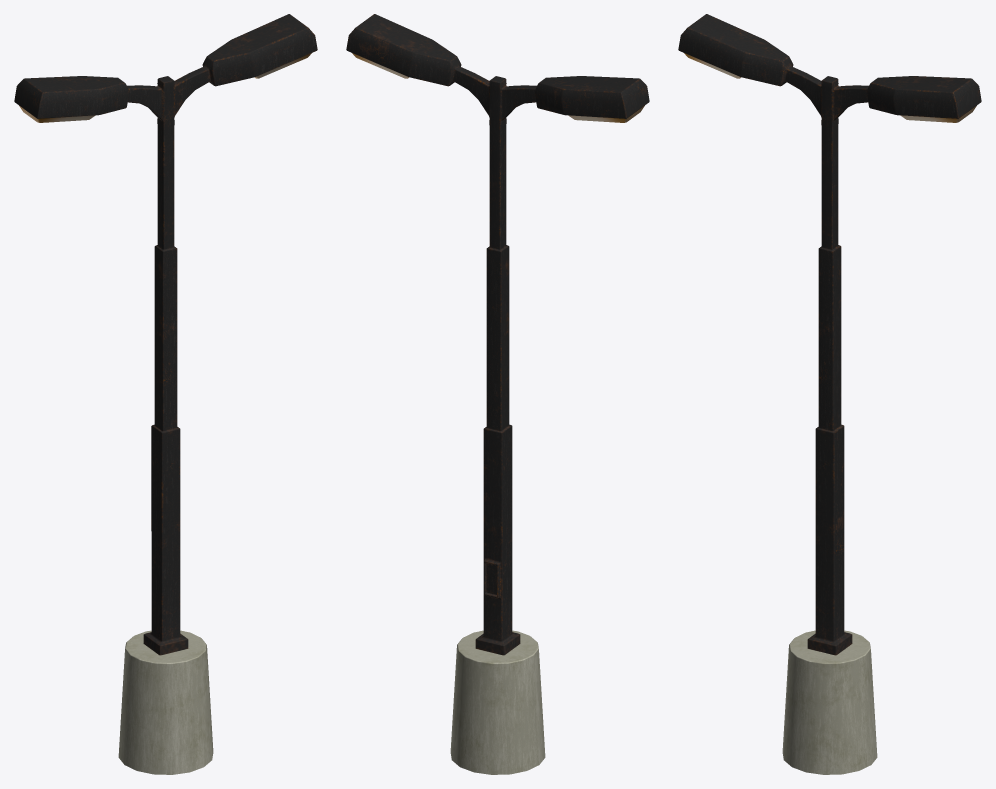
File: light.glb
3 renders of one model, left to right at view 1: azimuth 30°, elevation 25°; view 2: azimuth 150°, elevation 25°; view 3: azimuth 330°, elevation 25°, orthographic.
Parts seen in each view (by area): view 1: ParkingLotLight_0; view 2: ParkingLotLight_0; view 3: ParkingLotLight_0.
Boxes of the visible parts, bbox=[...] form: ParkingLotLight_0: bbox=[14, 14, 317, 774]; ParkingLotLight_0: bbox=[346, 14, 649, 774]; ParkingLotLight_0: bbox=[678, 14, 981, 774].
Size of the model in its own units: 2.18 by 5.2 by 0.6421.
Materials: 1 (1 with a texture image).
